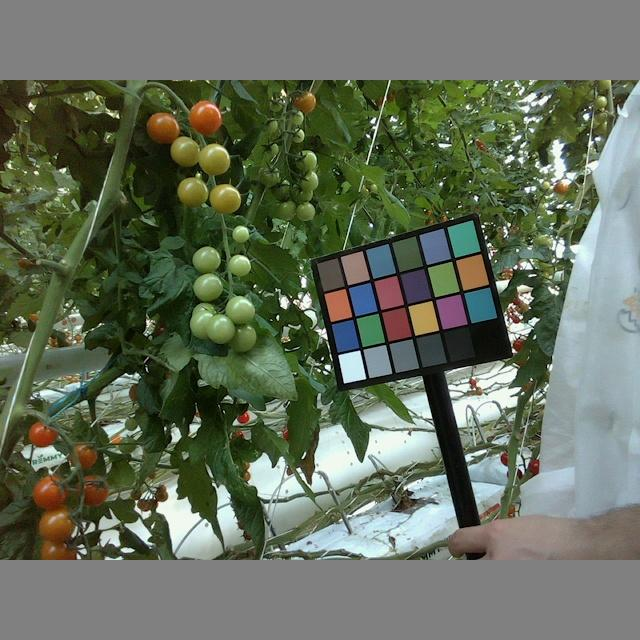green: (209, 182, 240, 216), (199, 143, 230, 174), (177, 177, 209, 207), (192, 273, 226, 301), (188, 309, 219, 339), (168, 138, 200, 167), (225, 296, 255, 326), (208, 314, 235, 345), (191, 247, 221, 274), (231, 326, 257, 352), (227, 253, 252, 276), (230, 225, 252, 242)
pink: (37, 503, 74, 542), (32, 474, 67, 509), (187, 100, 221, 134), (145, 112, 180, 144), (73, 475, 108, 507), (66, 443, 97, 471)
red: (27, 420, 57, 446)
